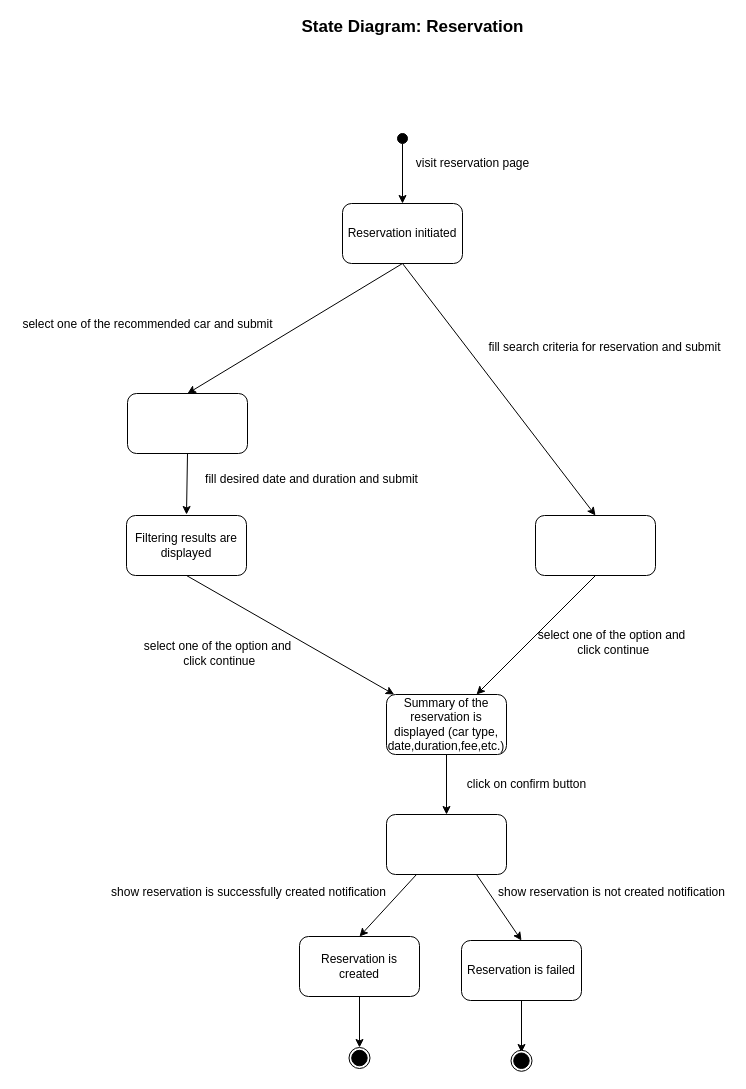
This 746x1089 diagram has some shape labels left out. The shapes that lost their labels are listed below. From the top down, each one's box as (x1, y1, x2, y2) in pixels, then its label:
(126, 392, 248, 454): Car information is displayed
(534, 514, 656, 576): Available cars are listed
(386, 814, 506, 874): Store reservation information in database
